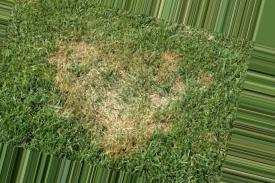patch: (83, 93, 120, 134), (150, 66, 187, 96), (66, 48, 107, 75), (129, 81, 147, 117), (66, 78, 84, 89)
